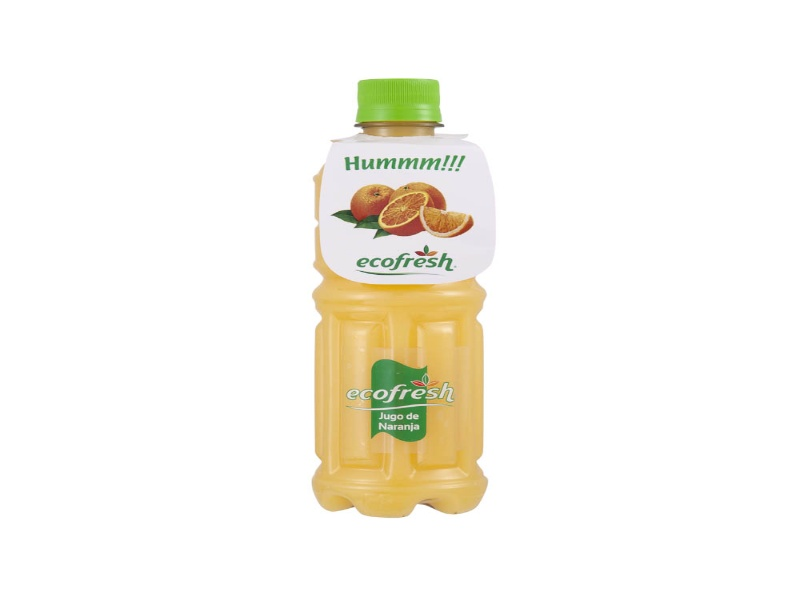Jugo de naranja: (312, 78, 488, 518)
